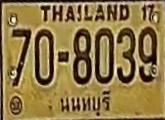0: (34, 28, 54, 84), (94, 27, 114, 83)
3: (116, 27, 135, 82)
7: (11, 28, 31, 86)
8: (72, 28, 91, 83)
9: (138, 26, 157, 82)
NBI: (57, 88, 114, 117)
